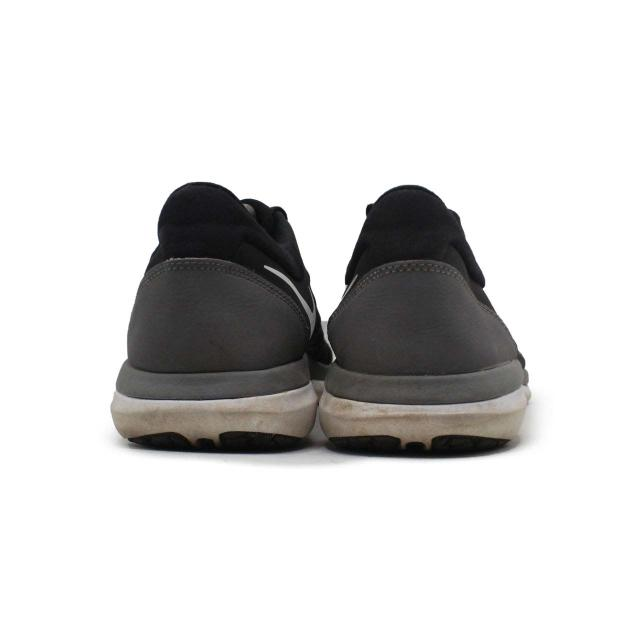heel: (118, 157, 291, 368), (330, 194, 500, 372)
midsole: (316, 361, 528, 448), (108, 363, 321, 444)
